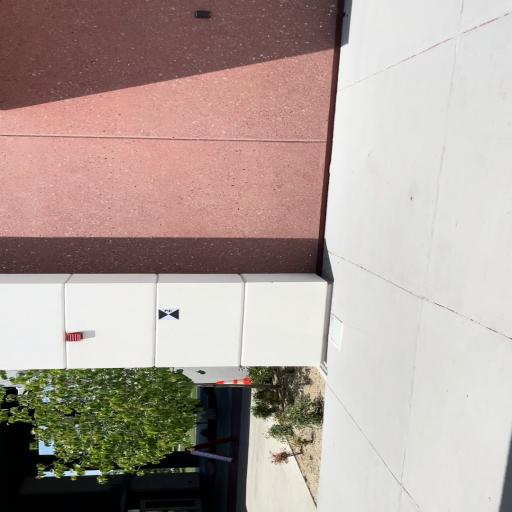target2: (158, 309, 179, 320)
